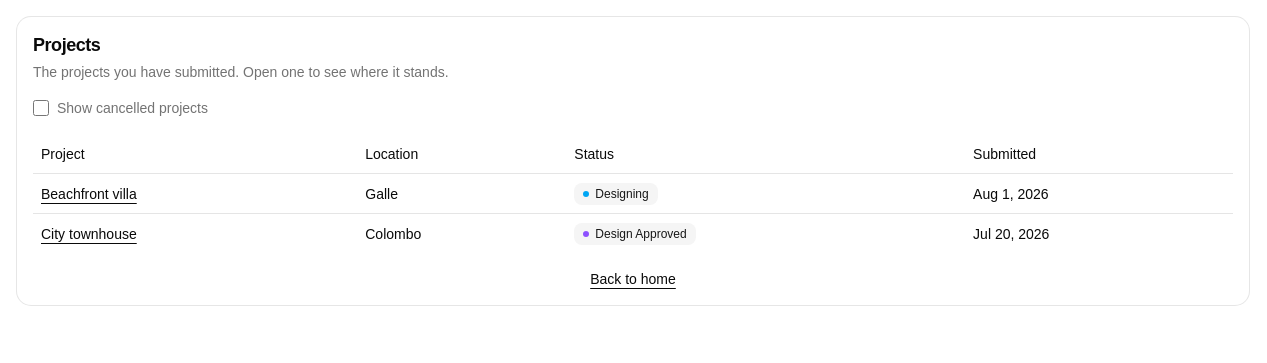
Test: ProjectsPage › leaves cancelled projects out until the toggle is ticked
The width and height of the screenshot is (1267, 363).
Expected: the link "Beachfront villa" is shown, [41,186,137,202]
Expected: the text "Hillside cabin" is not shown
Click the checkbox labelled "Show cancelled projects": click(41, 108) [33,100,49,116]
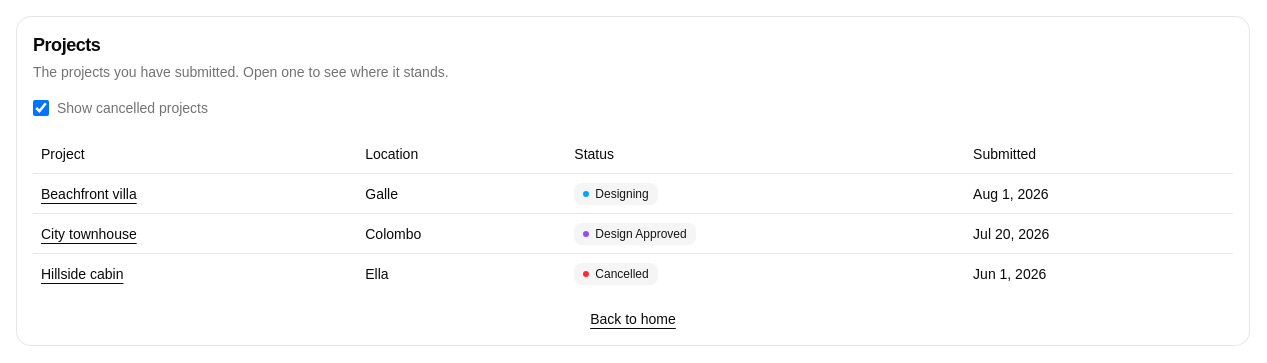
Expected: the link "Hillside cabin" is shown, [41,266,124,282]
